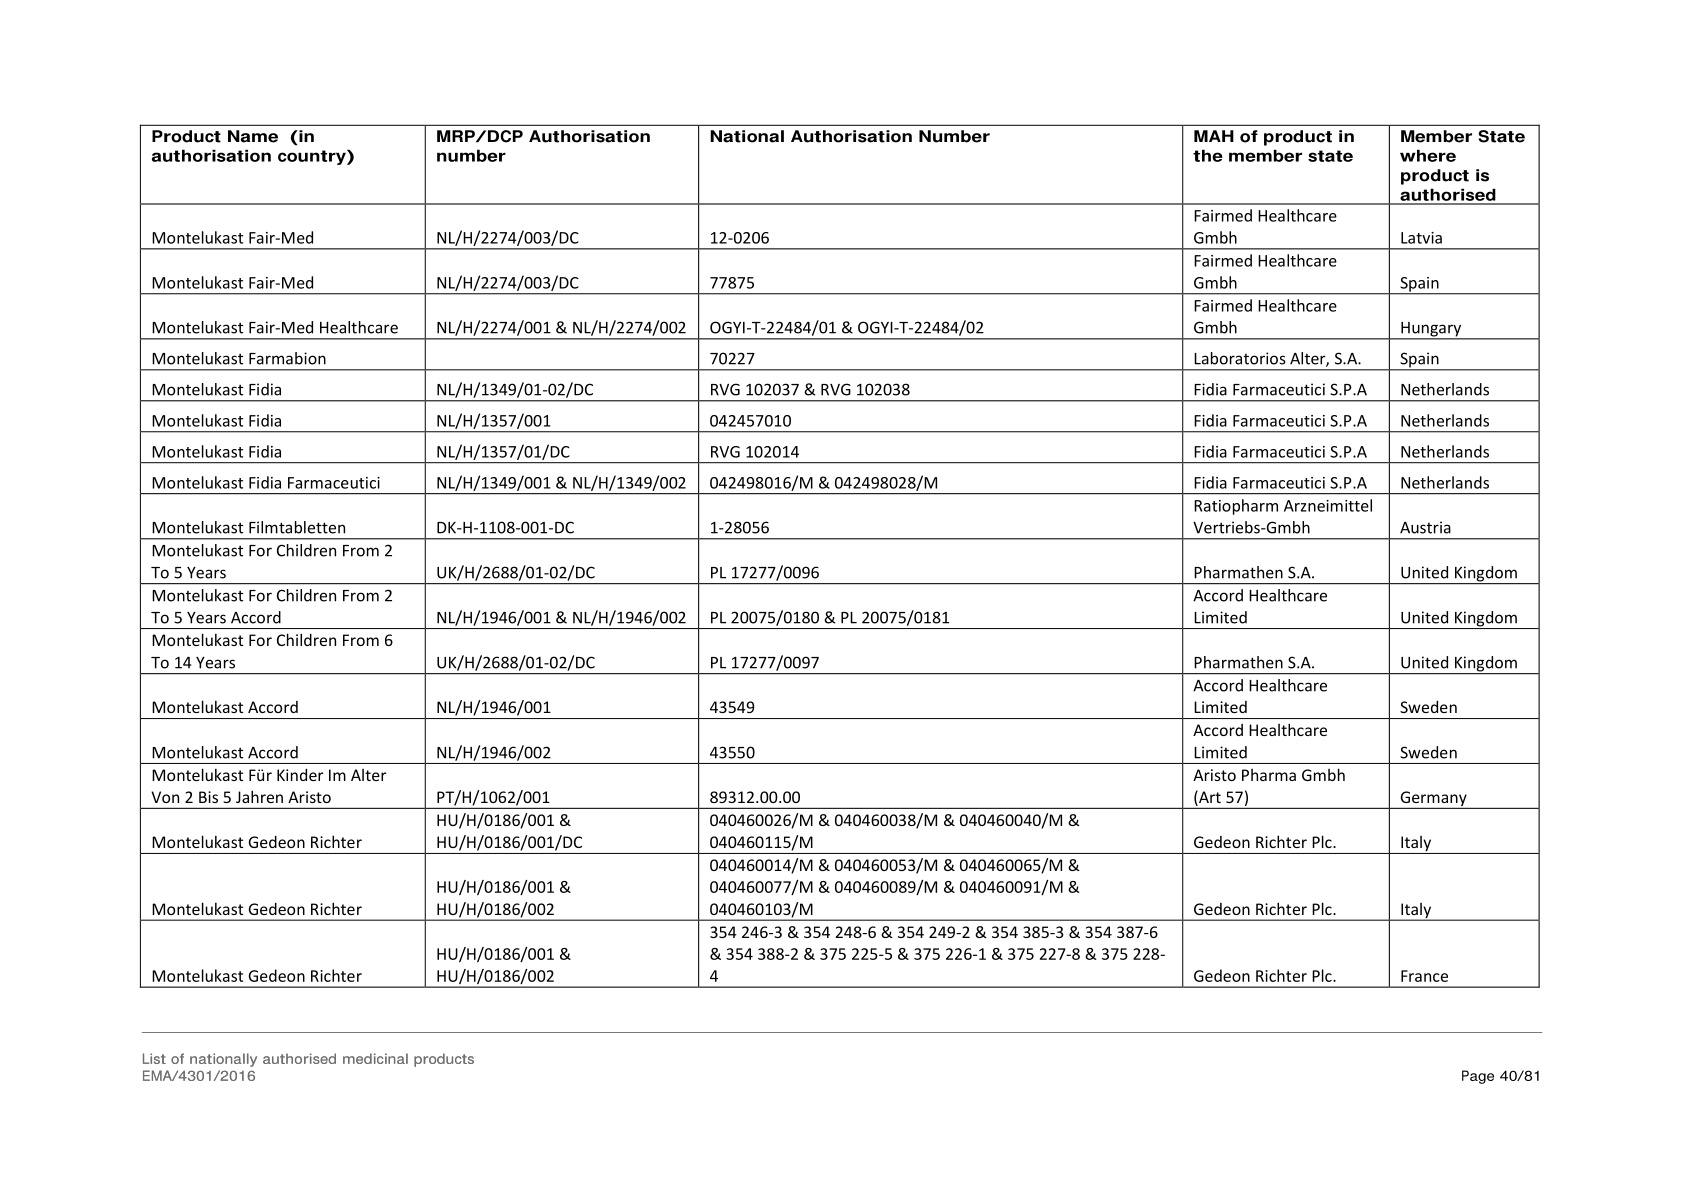full_lined: (138, 124, 1540, 989)
